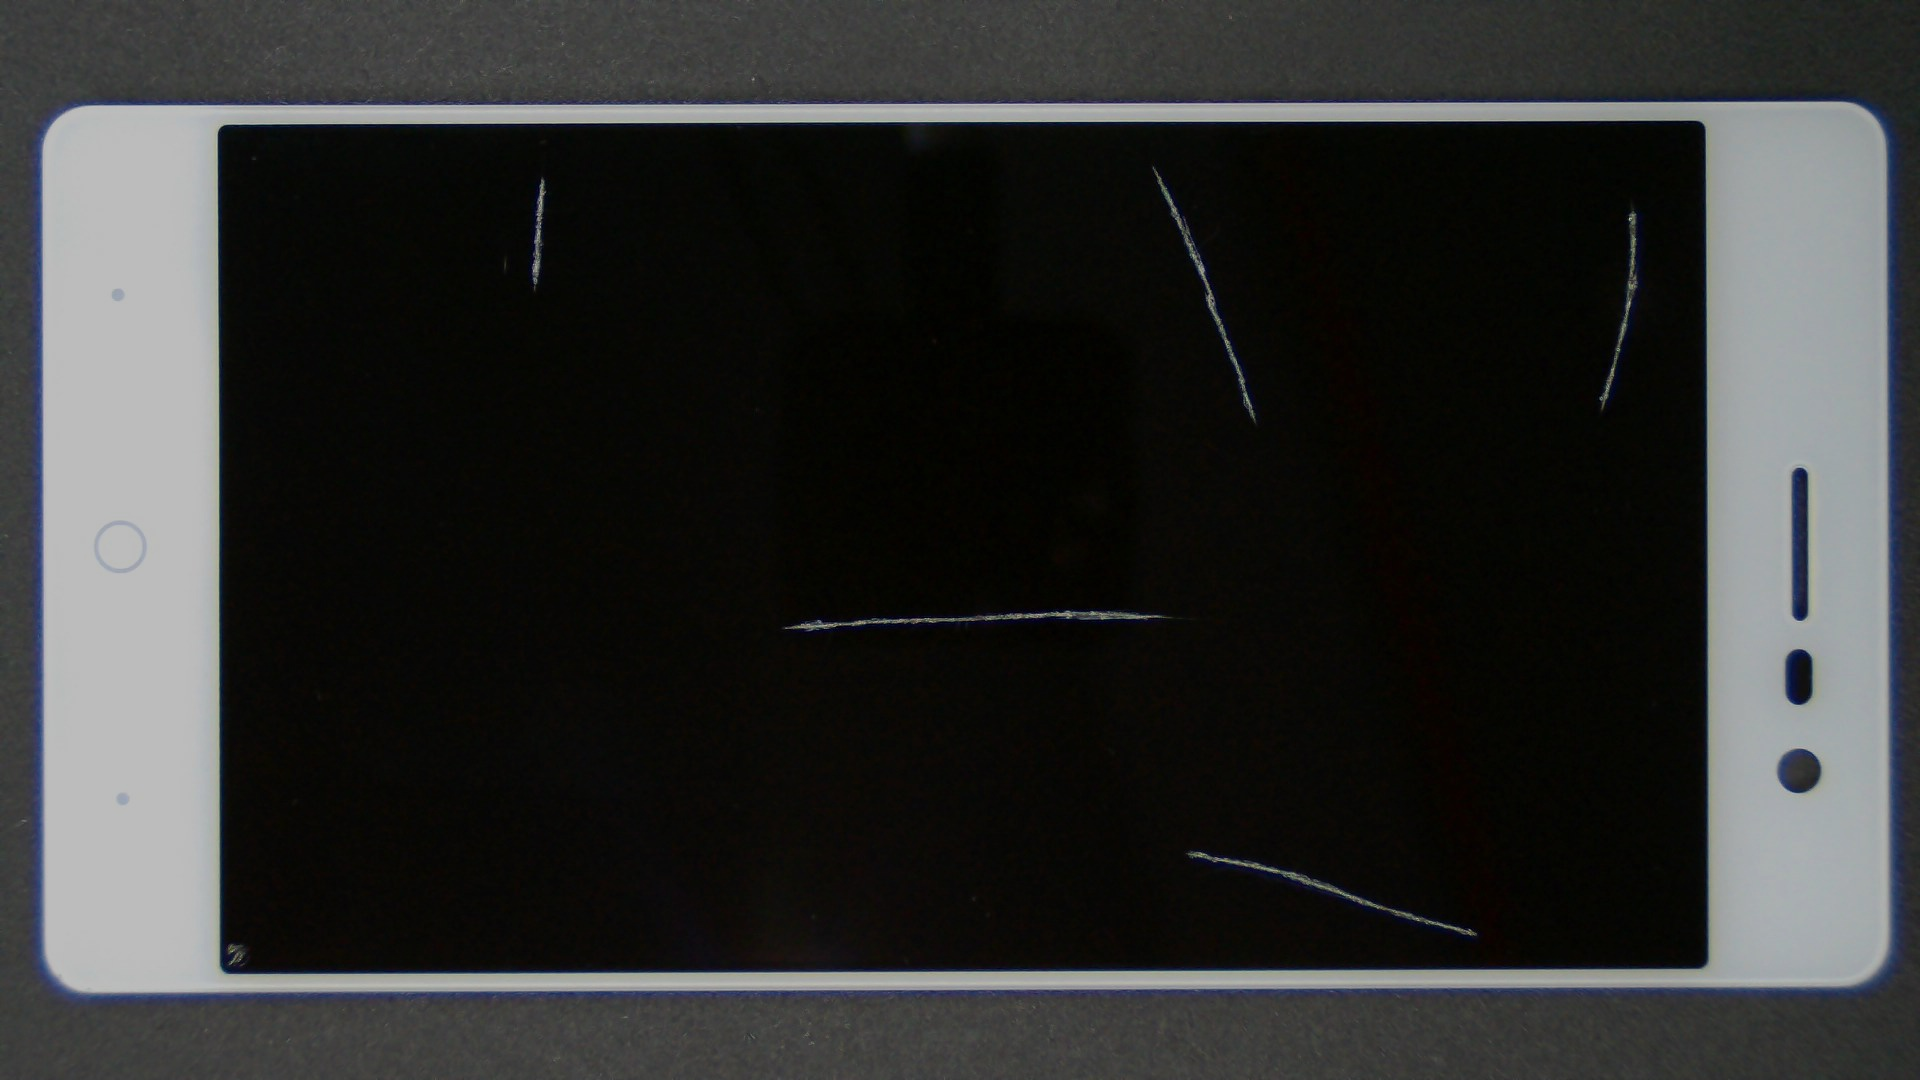oil: (596, 425, 1788, 1080), (531, 305, 1596, 915), (816, 100, 1920, 305), (578, 82, 1729, 248), (116, 471, 345, 1080), (272, 87, 812, 265)
